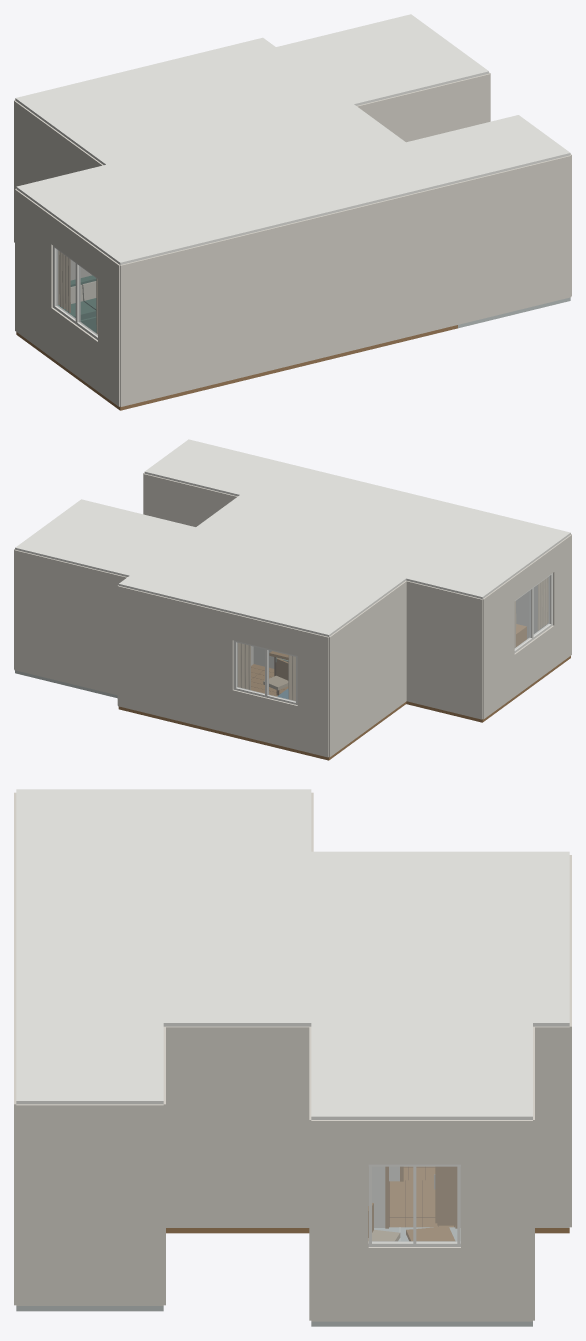
Rendered from house.glb.
3 renders of one model, top to bottom at view 1: azimuth 30°, elevation 25°; view 2: azimuth 150°, elevation 25°; view 3: azimuth 270°, elevation 25°, orthographic. The views are drawn at different scales.
Parts seen in each view (by area): view 1: wall_living_room_018, ceiling_living_room, ceiling_bedroom, wall_bathroom_020, ceiling_corridor, ceiling_kitchen, wall_corridor_019, ceiling_bathroom, wall_kitchen_023, wall_bedroom_024, wall_living_room_006, wall_living_room_003 (+9 smaller); view 2: ceiling_living_room, wall_kitchen_058, ceiling_bedroom, ceiling_corridor, wall_bedroom_024, wall_living_room_021, ceiling_kitchen, ceiling_bathroom, wall_bathroom_060, wall_bedroom_028, wall_bedroom_031, wall_corridor_034 (+23 smaller); view 3: ceiling_living_room, ceiling_bedroom, wall_bathroom_059, ceiling_corridor, ceiling_kitchen, wall_corridor_041, ceiling_bathroom, wall_corridor_042, wall_kitchen_053, window_kitchen_008_glazing, wall_kitchen_056, wall_kitchen_055 (+15 smaller).
Boxes of the visible parts, x1,y1,x2,y2 form: wall_living_room_018: (120, 199, 391, 406); ceiling_living_room: (16, 120, 390, 264); ceiling_bedroom: (15, 54, 285, 164); wall_bathroom_020: (458, 155, 571, 324); ceiling_corridor: (196, 37, 457, 198); ceiling_kitchen: (276, 14, 488, 105); wall_corridor_019: (391, 183, 458, 340); ceiling_bathroom: (406, 115, 570, 182); wall_kitchen_023: (357, 73, 489, 142); wall_bedroom_024: (14, 100, 103, 242); wall_living_room_006: (15, 218, 52, 307); wall_living_room_003: (51, 307, 97, 391); ceiling_living_room: (253, 476, 570, 598); wall_kitchen_058: (14, 549, 127, 695); ceiling_bedroom: (176, 541, 406, 636); ceiling_corridor: (118, 462, 340, 599); wall_bedroom_024: (329, 580, 406, 757); wall_living_room_021: (406, 581, 482, 719); ceiling_kitchen: (15, 499, 195, 576); ceiling_bathroom: (144, 439, 283, 496); wall_bathroom_060: (144, 473, 237, 526); wall_bedroom_028: (232, 689, 297, 749); wall_bedroom_031: (175, 626, 233, 690); wall_corridor_034: (118, 612, 175, 675); ceiling_living_room: (16, 789, 311, 976); ceiling_bedroom: (311, 851, 569, 976); wall_bathroom_059: (16, 1104, 163, 1305); ceiling_corridor: (16, 976, 569, 1026); ceiling_kitchen: (311, 1023, 532, 1119); wall_corridor_041: (166, 1087, 309, 1227); ceiling_bathroom: (16, 1023, 163, 1104); wall_corridor_042: (166, 1026, 309, 1087); wall_kitchen_053: (368, 1247, 460, 1321); window_kitchen_008_glazing: (372, 1167, 456, 1242); wall_kitchen_056: (461, 1164, 532, 1247); wall_kitchen_055: (461, 1248, 532, 1321).
Bounding box in the file's own units: 10.56 × 3.14 × 7.56.
